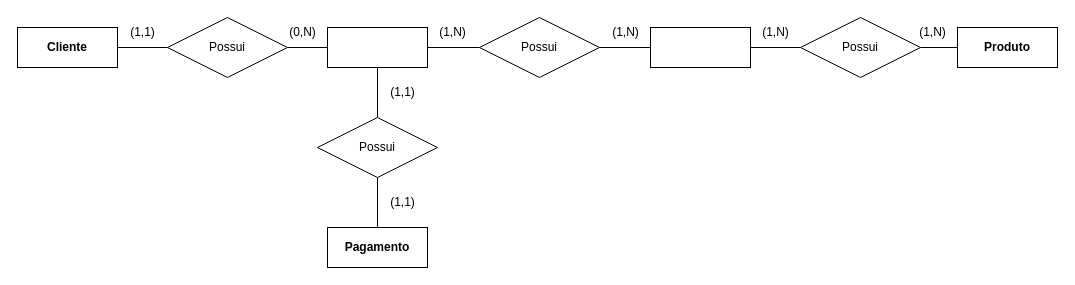
This 1075x285 diagram has some shape labels left out. Each missing label, with the centre of its shape:
ItensPedido: the point at 700,47
Pedido: the point at 377,47
